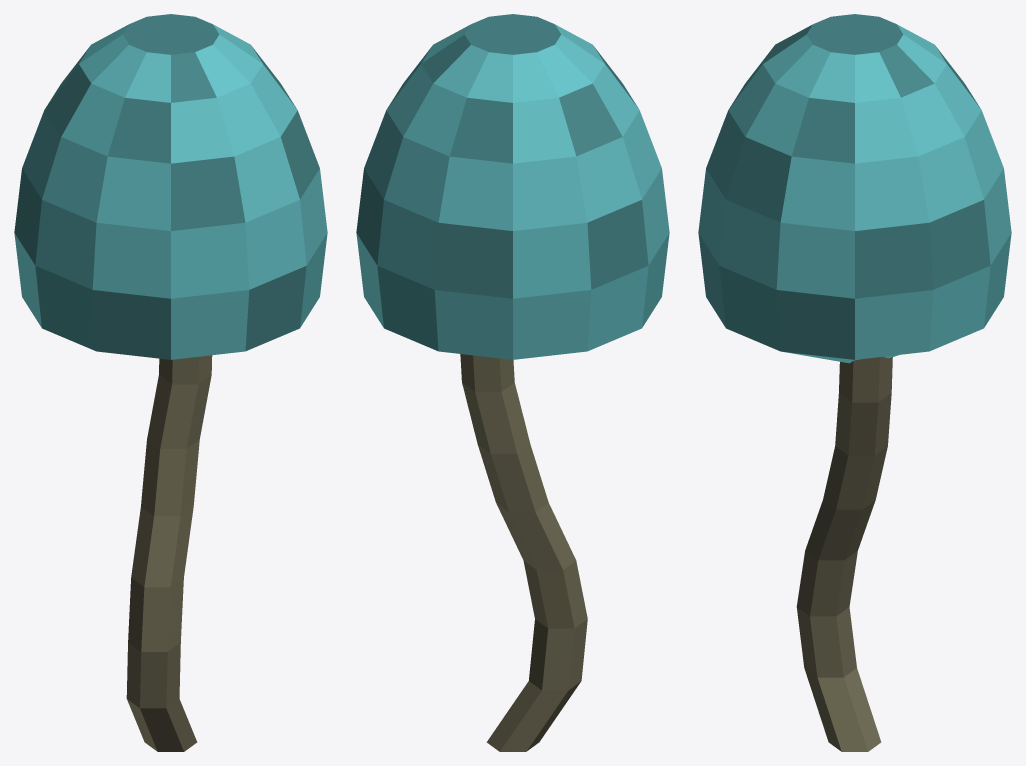
Rendered from Mushroom_2_Cyan.fbx.
3 renders of one model, left to right at view 1: azimuth 30°, elevation 25°; view 2: azimuth 150°, elevation 25°; view 3: azimuth 270°, elevation 25°, orthographic.
Visible parts, largest first — view 1: Mushroom_2_Cyan; view 2: Mushroom_2_Cyan; view 3: Mushroom_2_Cyan.
Boxes of the visible parts, x1,y1,x2,y2 form: Mushroom_2_Cyan: [14, 14, 327, 751]; Mushroom_2_Cyan: [356, 14, 669, 751]; Mushroom_2_Cyan: [698, 14, 1011, 751].
Size of the model in its own units: 11.86 by 29.58 by 11.86.
